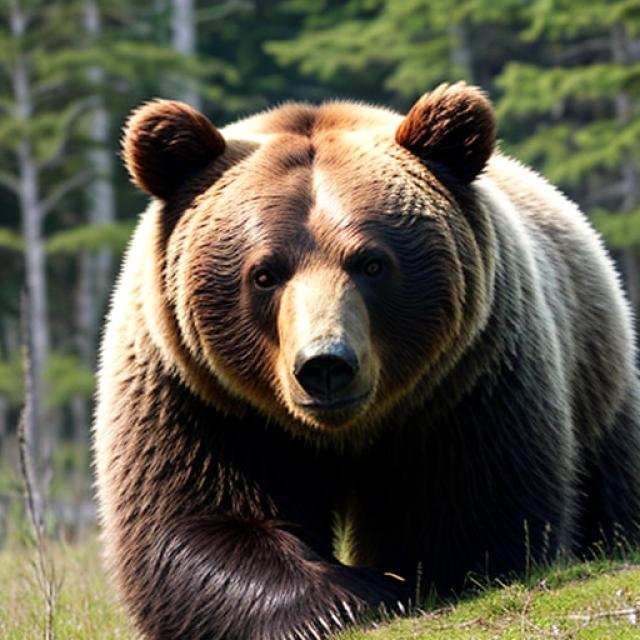bear: (79, 62, 602, 602)
